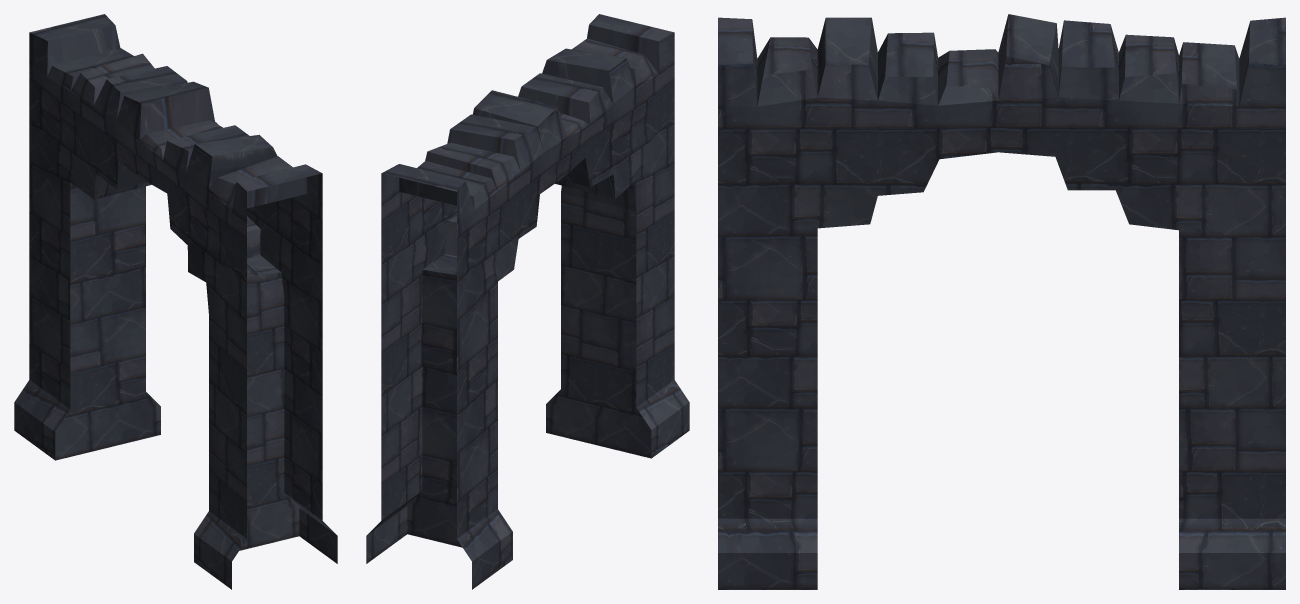
File: Ruins_Arch_001.fbx
3 views of the same model, side by side, from view 1: azimuth 30°, elevation 25°; view 2: azimuth 150°, elevation 25°; view 3: azimuth 270°, elevation 25° (orthographic). The views are drawn at different scales.
Parts seen in each view (by area): view 1: Ruins_Arch_001; view 2: Ruins_Arch_001; view 3: Ruins_Arch_001.
Boxes of the visible parts, x1=… form: Ruins_Arch_001: x1=14, y1=14, x2=337, y2=589; Ruins_Arch_001: x1=366, y1=14, x2=689, y2=589; Ruins_Arch_001: x1=718, y1=14, x2=1285, y2=589.
Size of the model in its own units: 1.4 by 5.07 by 5.
1 material, 1 textured.
